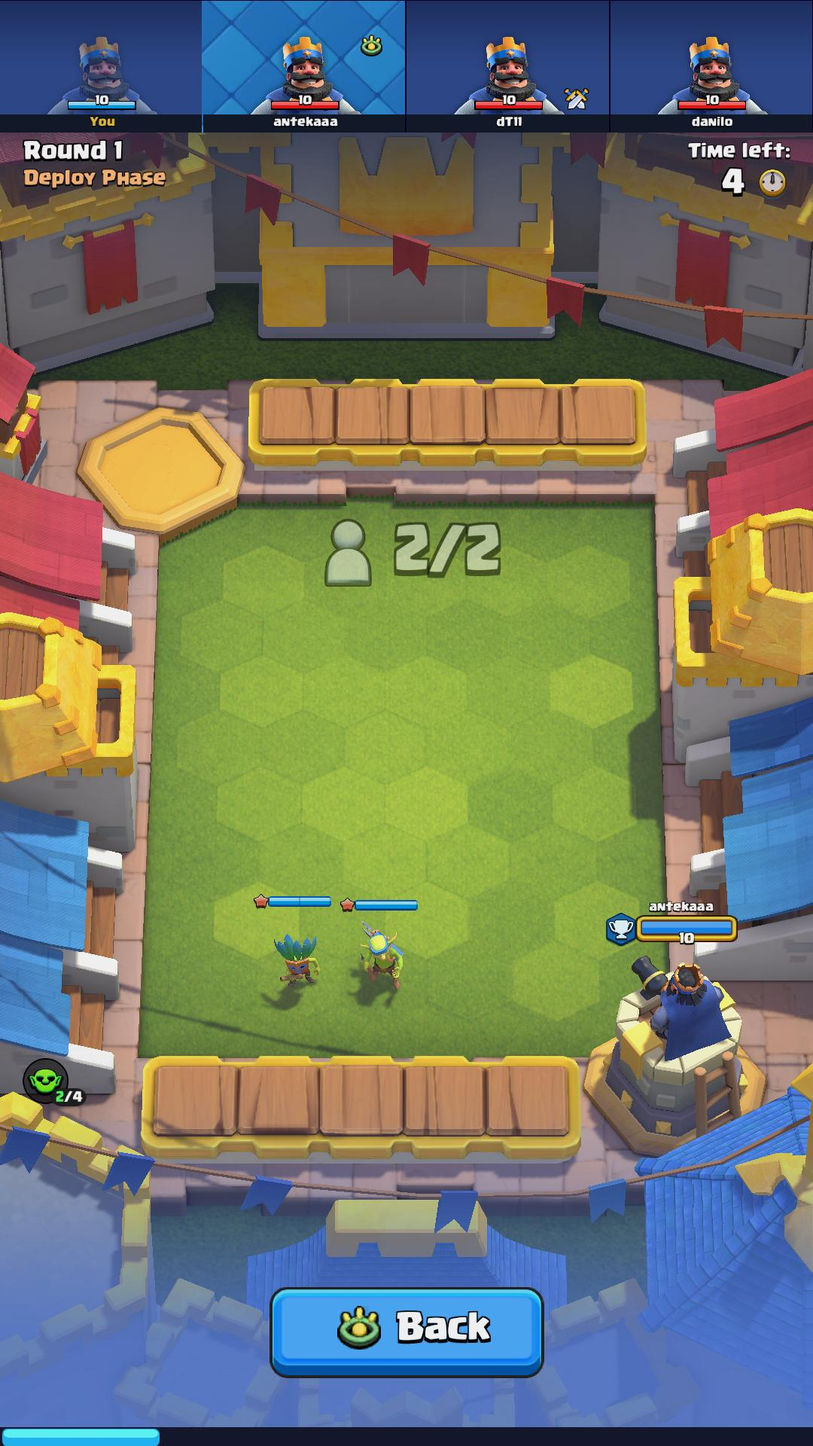dart: (267, 928, 323, 987)
spear: (350, 917, 409, 991)
